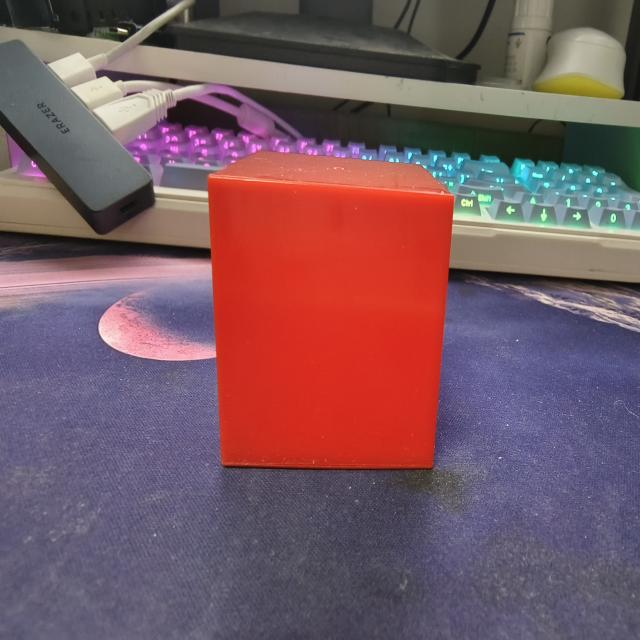red: (206, 152, 455, 472)
